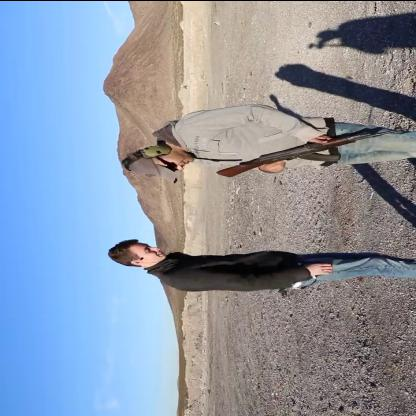long weapon: (210, 120, 410, 178)
